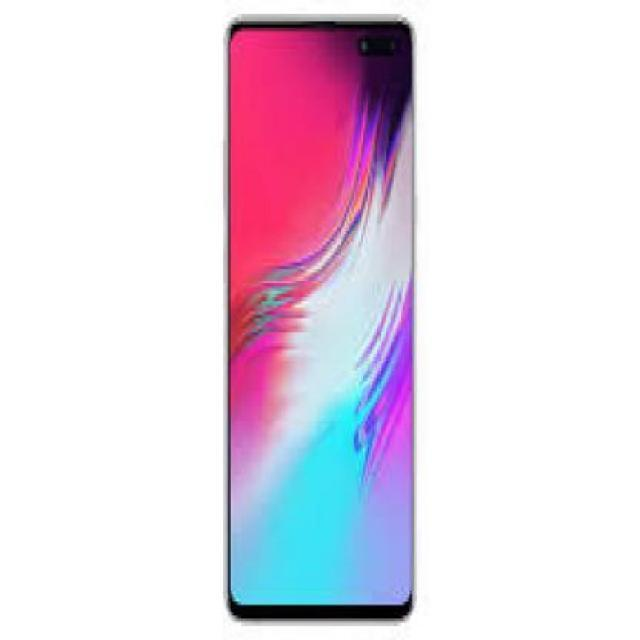phone: (223, 22, 414, 619)
